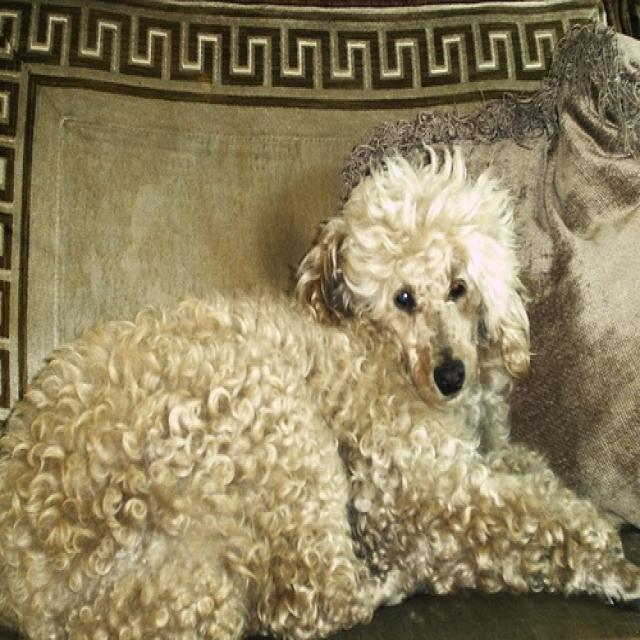dog: (5, 162, 630, 630)
